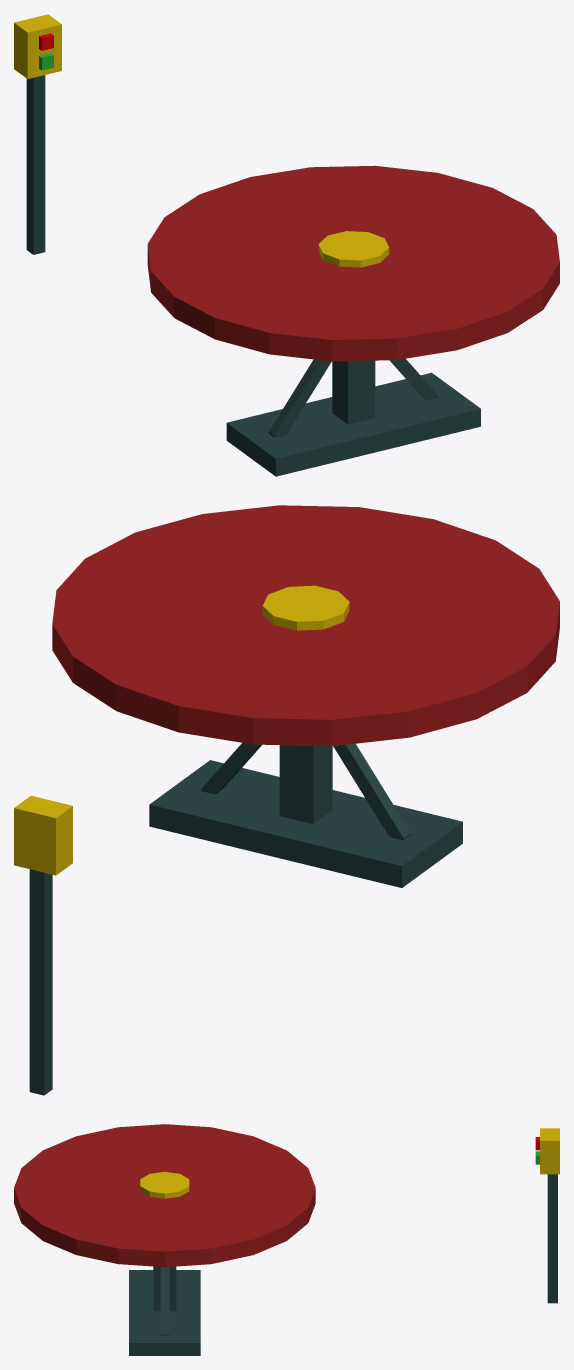
File: rope_tow_top.obj
3 views of the same model, one above another, from view 1: azimuth 30°, elevation 25°; view 2: azimuth 150°, elevation 25°; view 3: azimuth 270°, elevation 25° (orthographic). The views are drawn at different scales.
Bounding box in the file's own units: 2.1 × 1.28 × 3.8.
